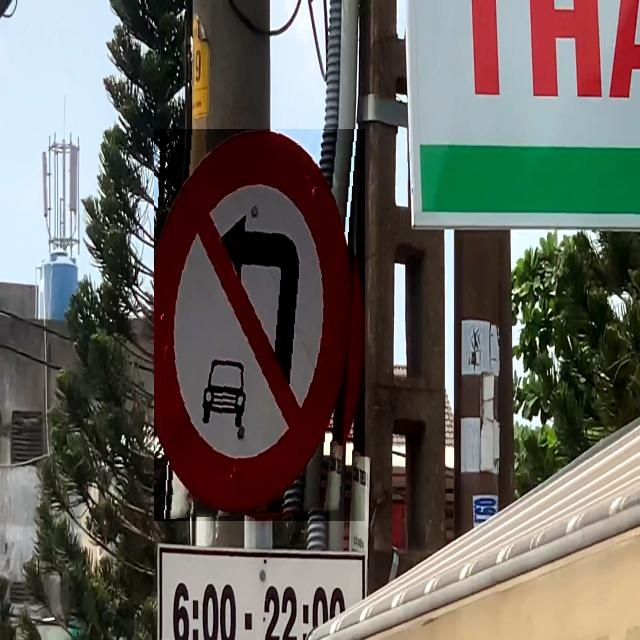bien_cam: (154, 129, 365, 521)
